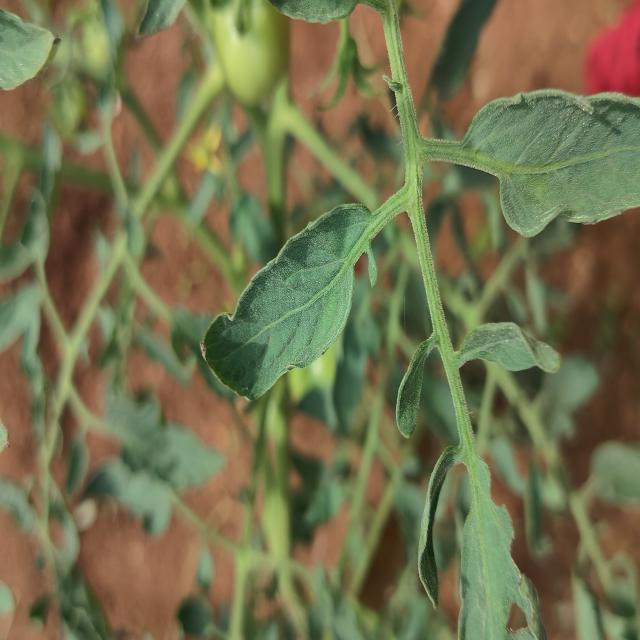tomato_healthy: (200, 198, 366, 402), (463, 87, 640, 236)
